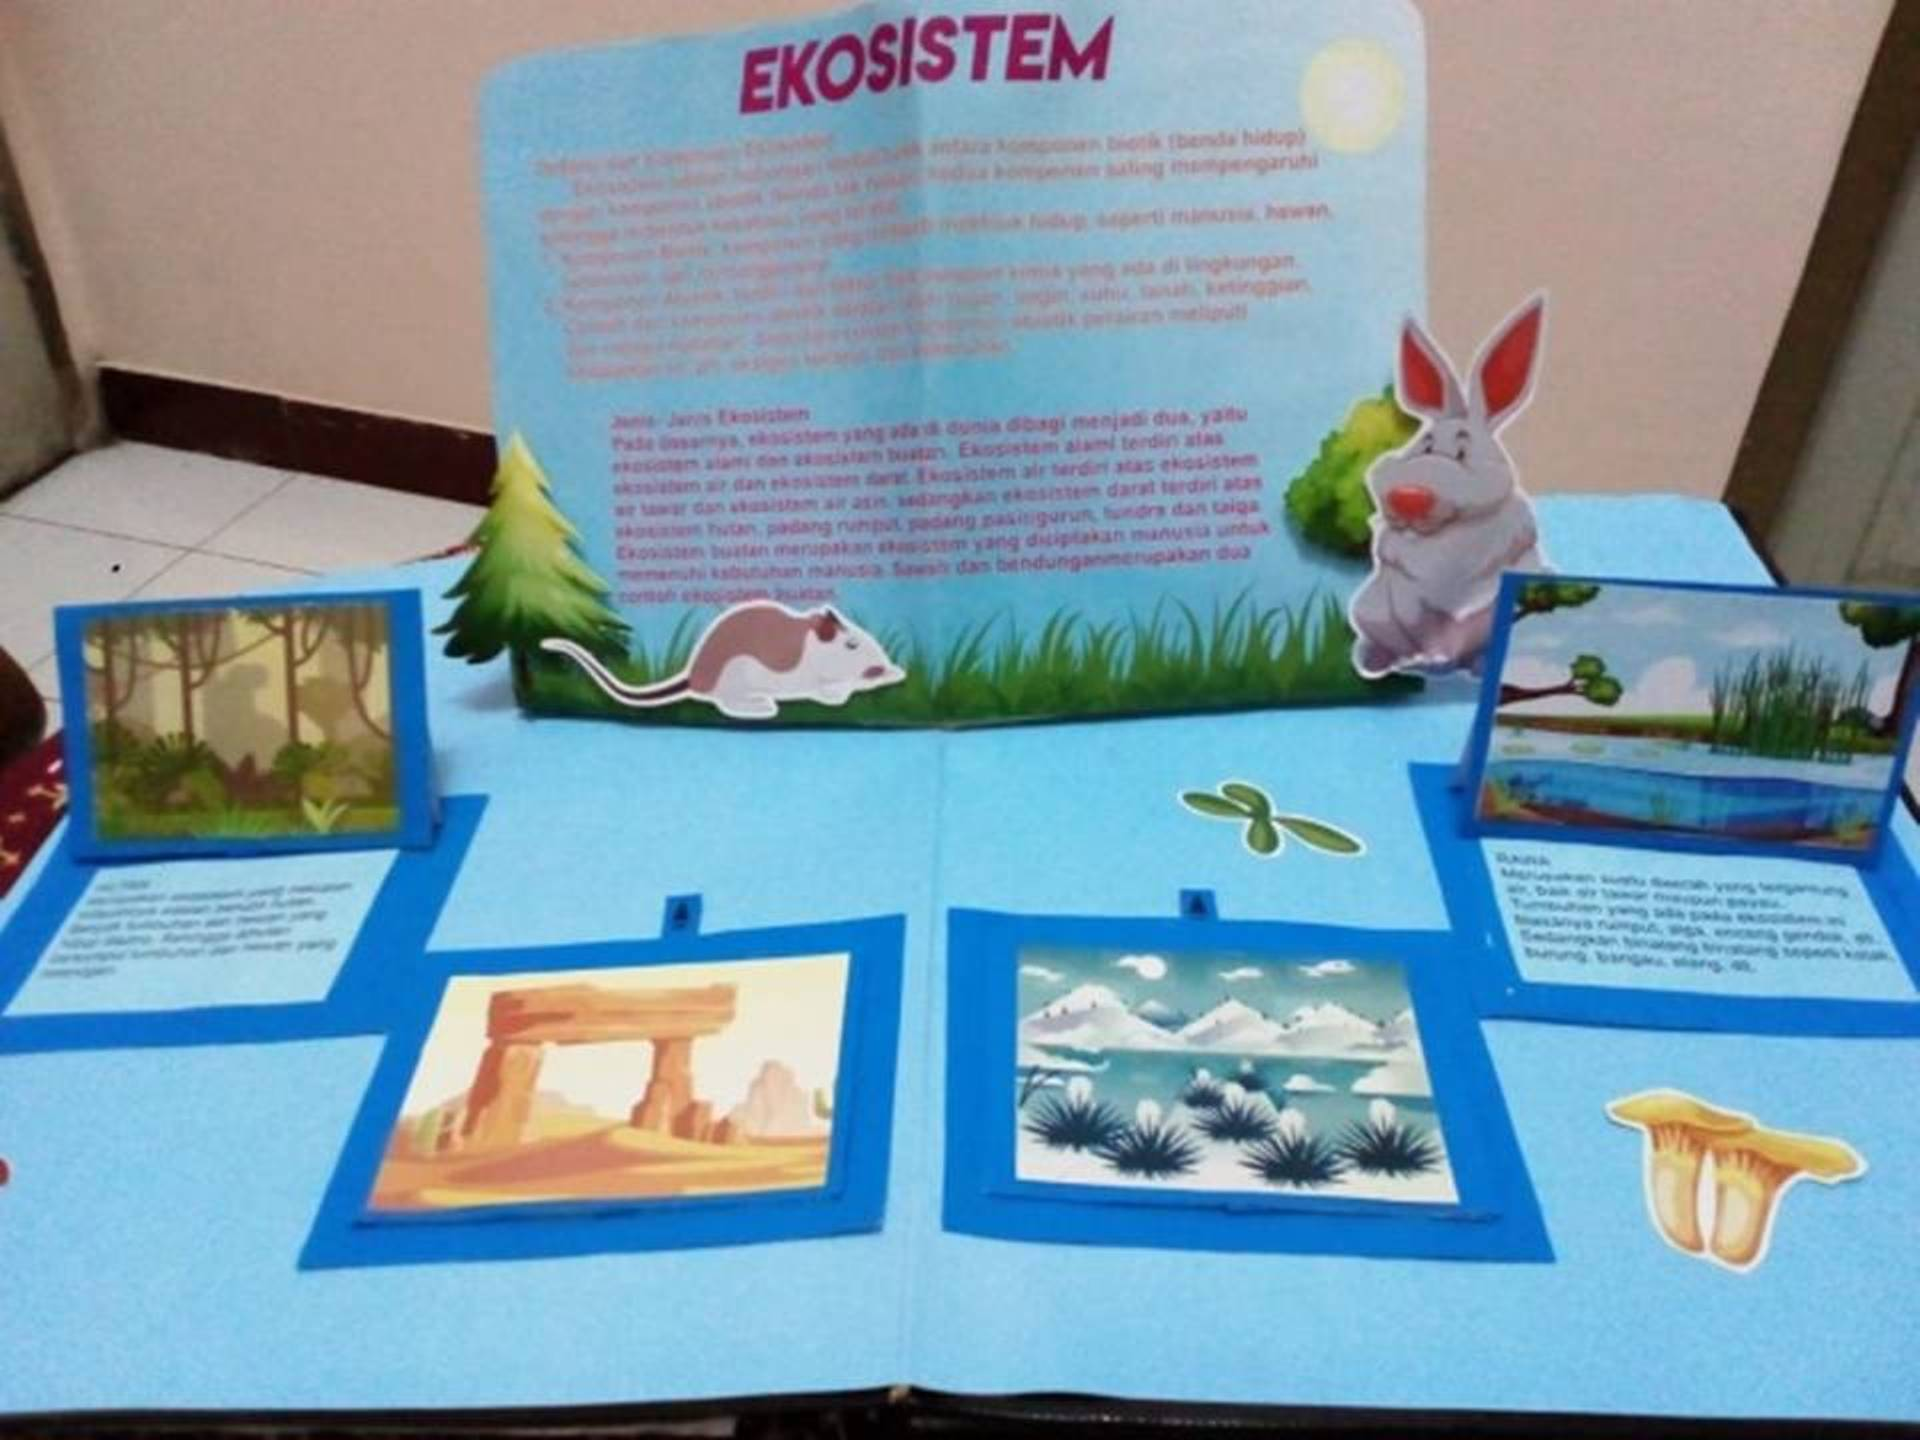buku: (482, 26, 1445, 734)
